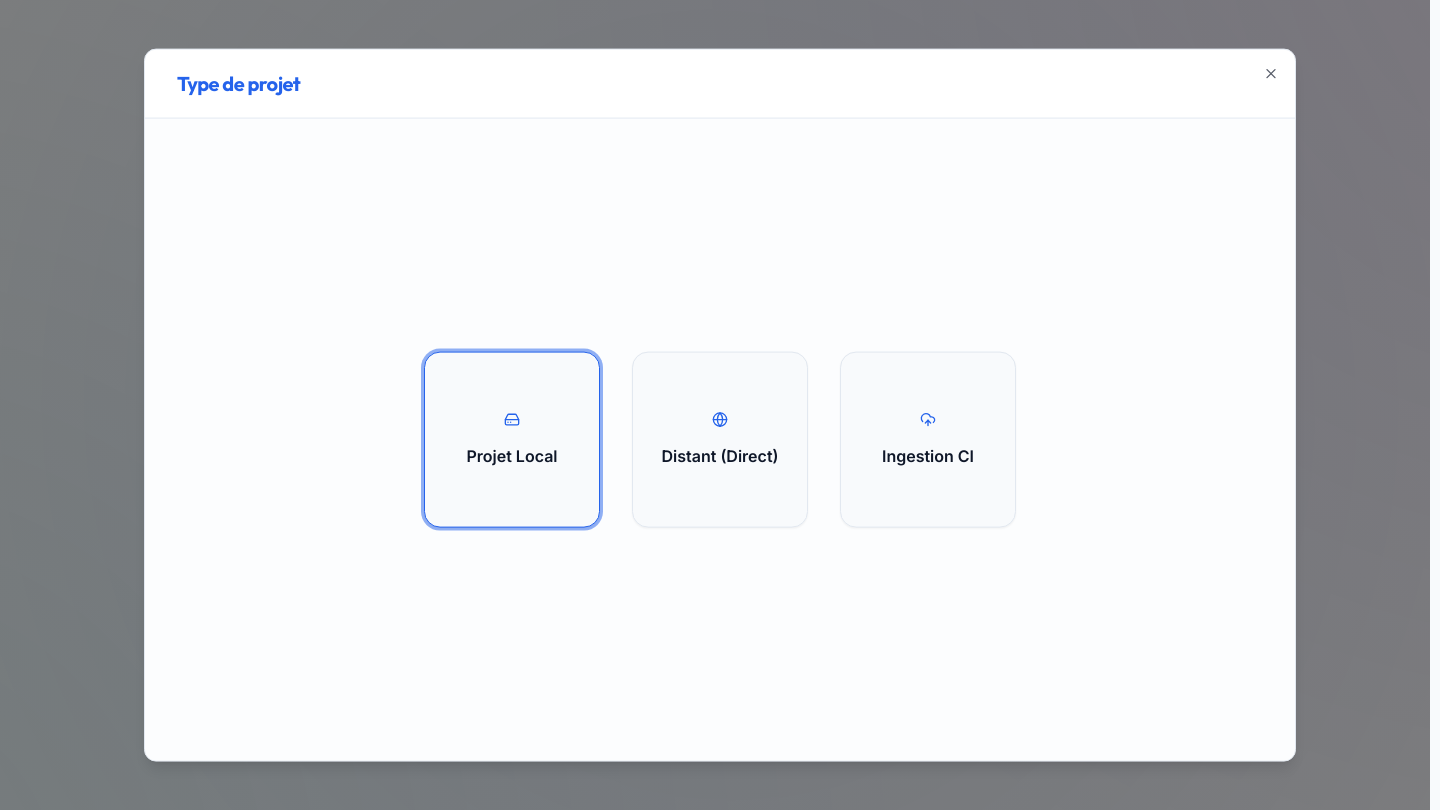
Test case: ProjectEditDialog › la flèche retour en mode création permet de revenir au choix du type
Click the button "Projet Local". click: (512, 440)
box: [424,352,600,528]
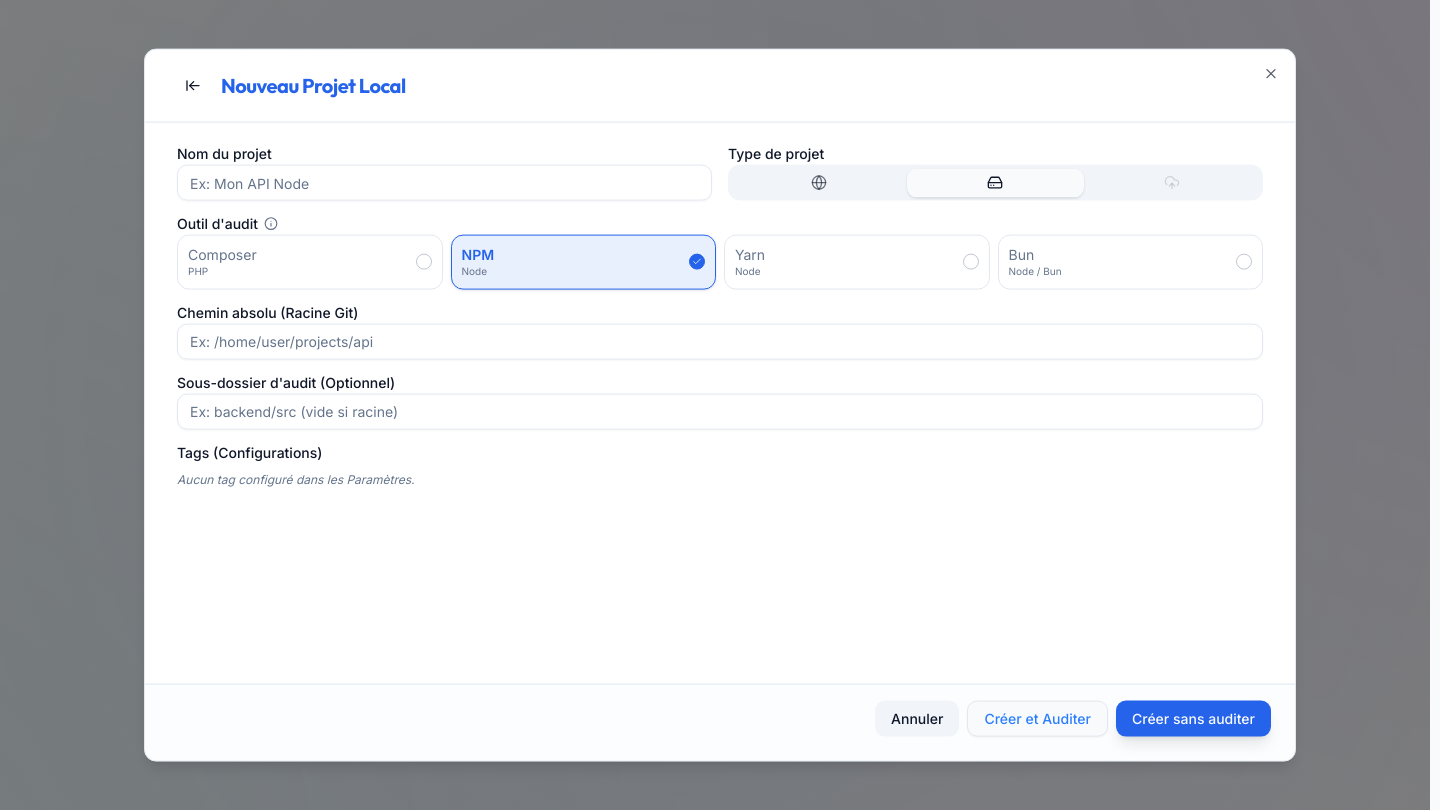
expect the heading "Nouveau Projet Local" is shown: met, box [221,72,406,100]
Click the button named "Retour au choix du type". click: (193, 86)
box: [177,70,209,102]
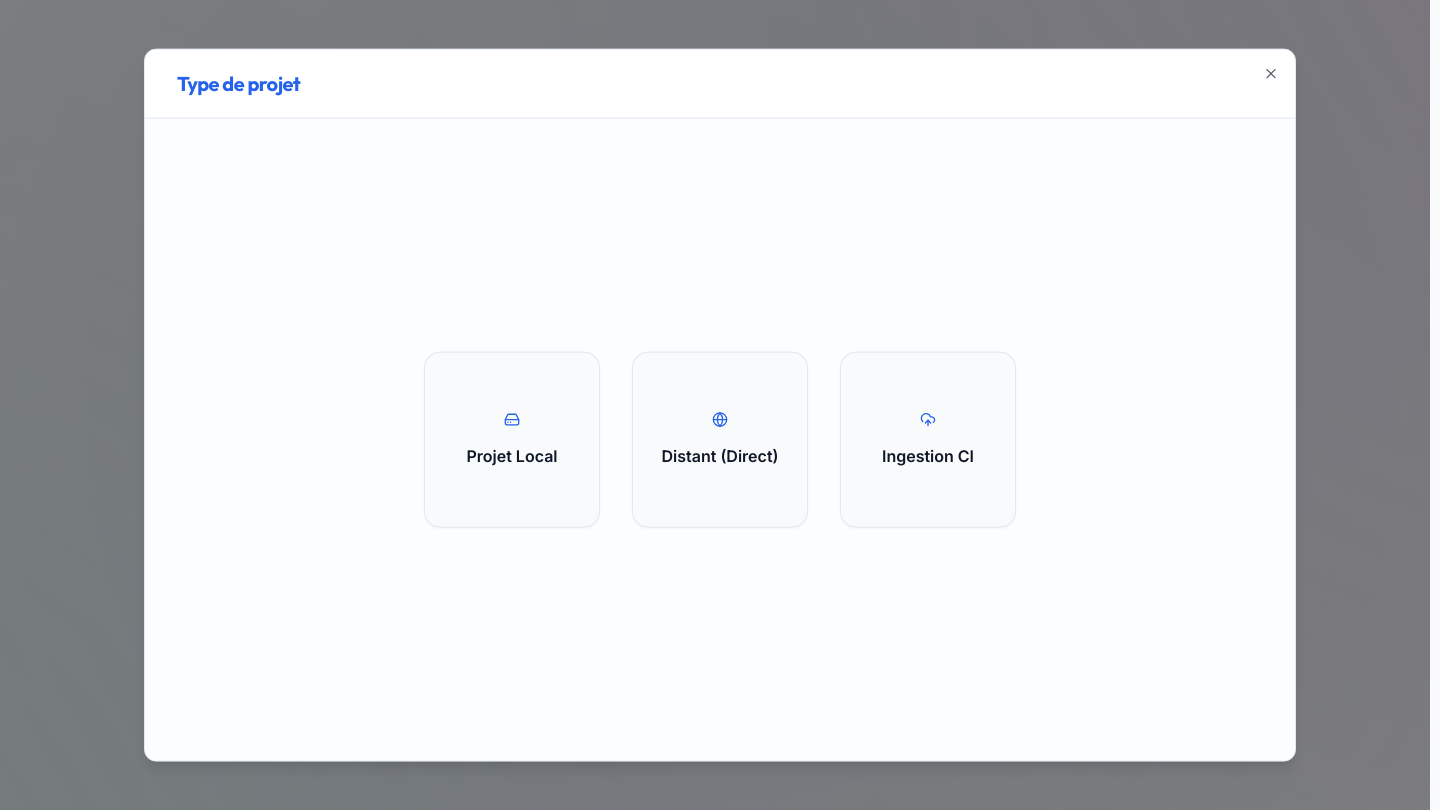
expect the heading "Type de projet" is shown: met, box [177,70,300,98]
